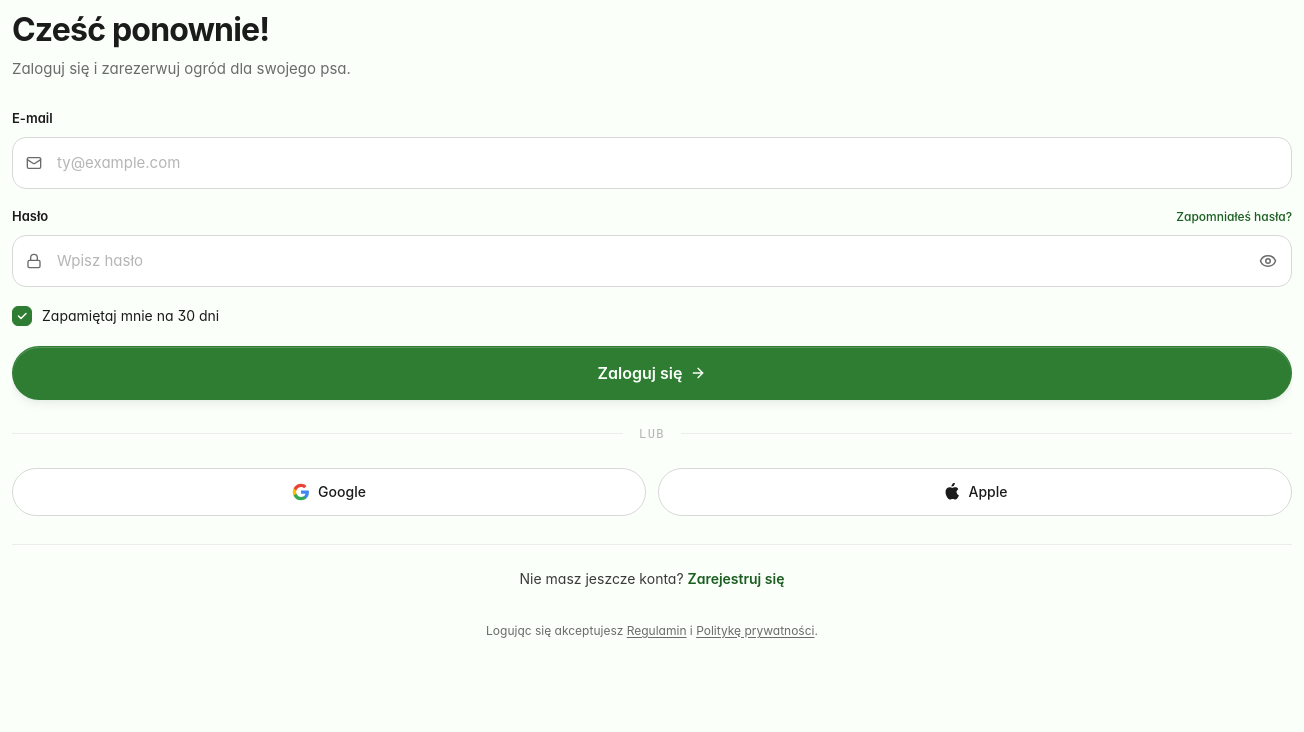
Test: LoginPage › blocks submission and shows Polish validation errors when empty
The width and height of the screenshot is (1304, 732).
Click the button "Zaloguj się" at (652, 373), box [12,346,1292,400]
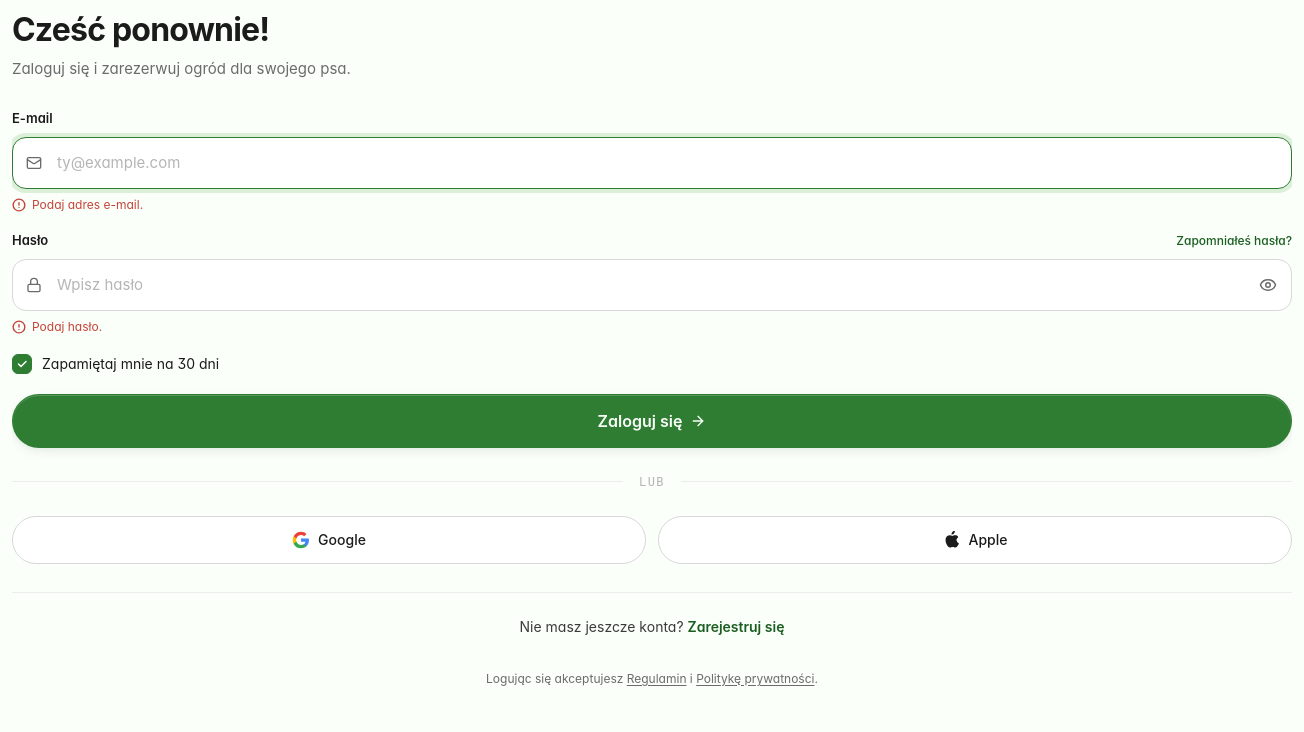
Expected: the text "Podaj adres e-mail." is shown, [12,197,143,212]
Expected: the text "Podaj hasło." is shown, [12,319,102,334]
